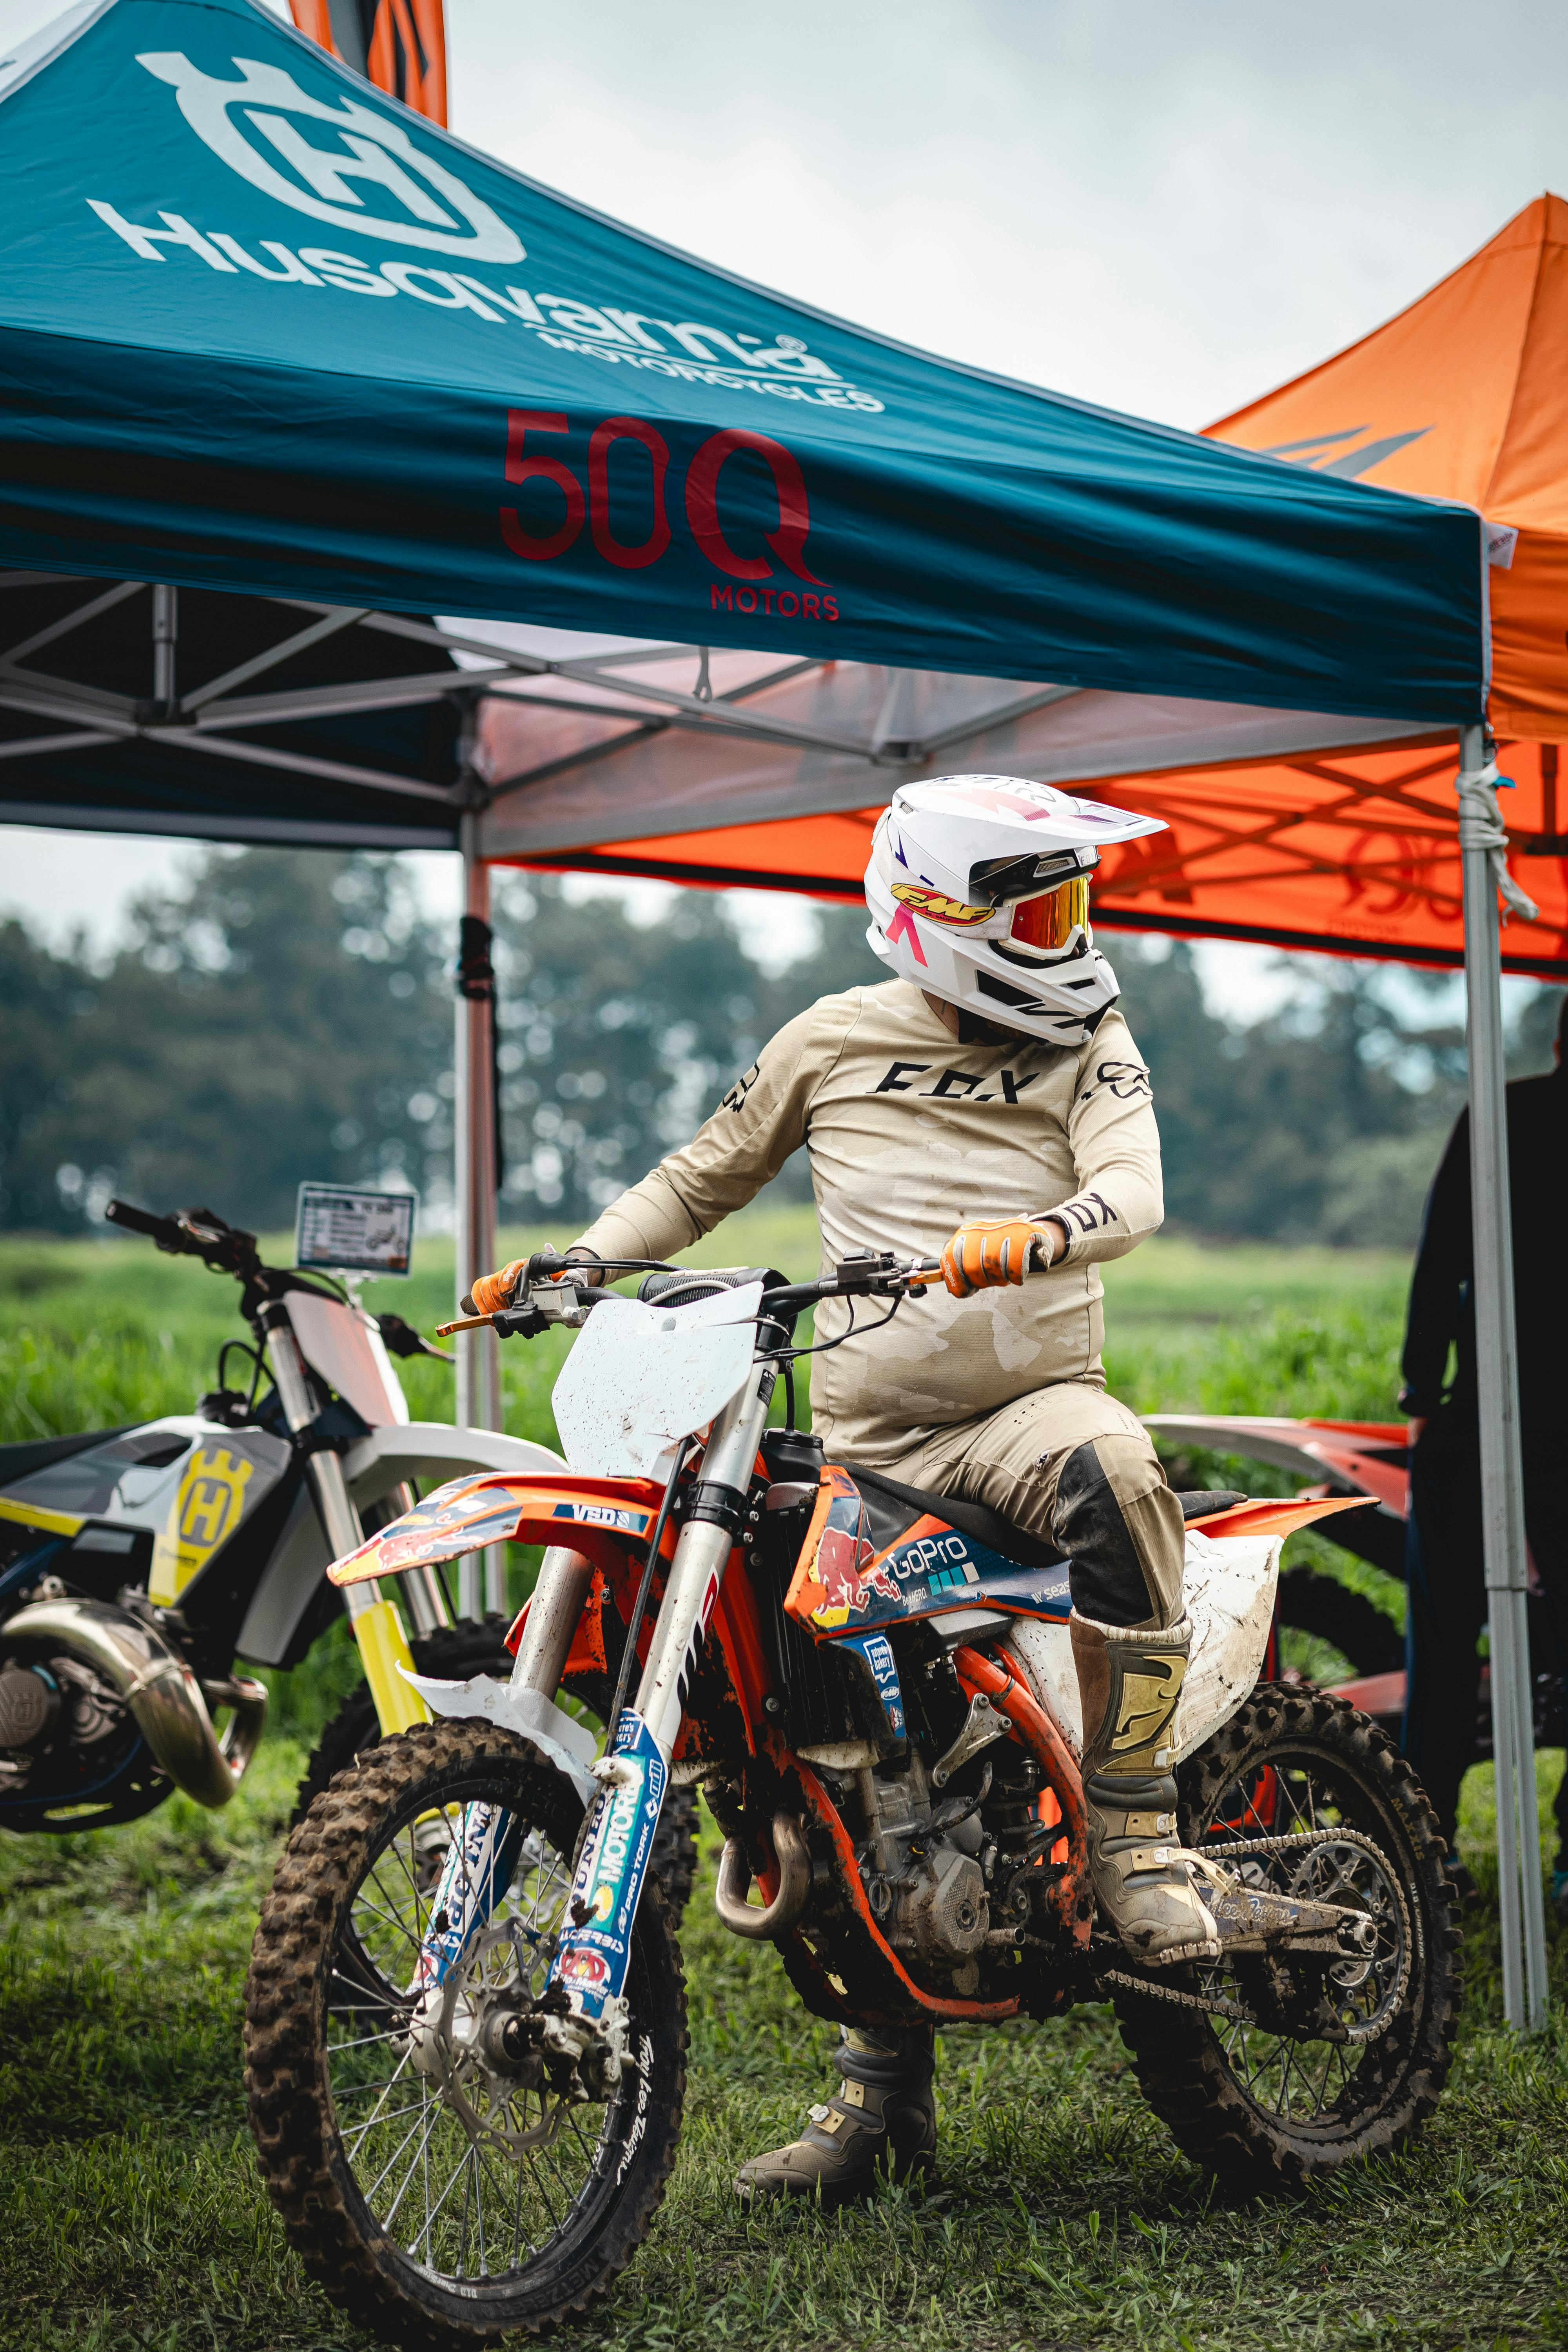capacete: (861, 766, 1174, 1057)
